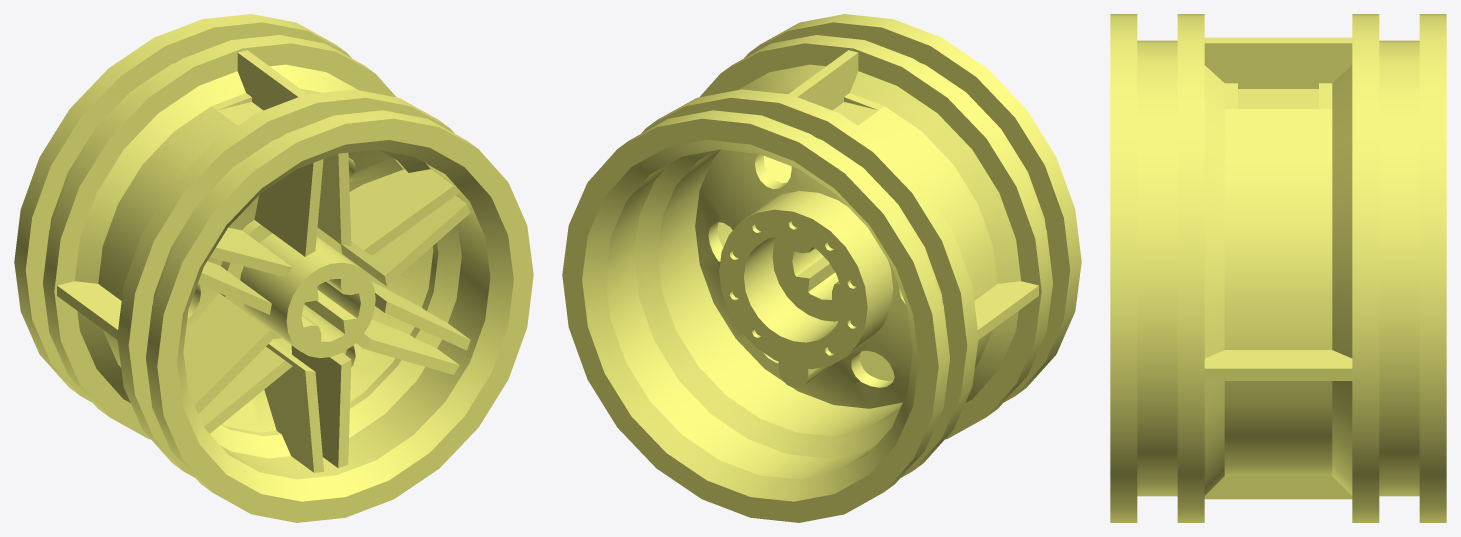
3 renders of one model, left to right at view 1: azimuth 30°, elevation 25°; view 2: azimuth 150°, elevation 25°; view 3: azimuth 270°, elevation 25°, orthographic. The views are drawn at different scales.
Parts seen in each view (by area): view 1: 56145.dat; view 2: 56145.dat; view 3: 56145.dat.
Part boxes in pixels (box(x1,y1,x2,y2)): 56145.dat: box(14, 14, 533, 522); 56145.dat: box(562, 14, 1081, 522); 56145.dat: box(1110, 14, 1446, 522).
Bounding box in the file's own units: 0.0304 × 0.0304 × 0.02.
